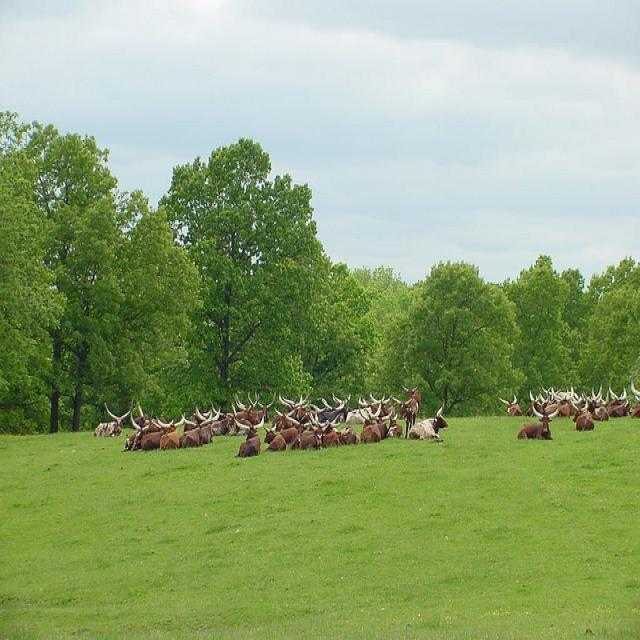cow: (120, 372, 638, 467), (515, 399, 560, 441), (407, 398, 448, 442), (91, 399, 132, 436), (231, 412, 263, 455), (180, 407, 213, 443), (278, 409, 308, 447), (246, 389, 275, 423), (543, 388, 571, 416), (299, 421, 328, 447), (262, 419, 285, 451), (569, 399, 593, 429), (384, 412, 402, 436), (338, 424, 357, 444), (298, 409, 316, 424)
